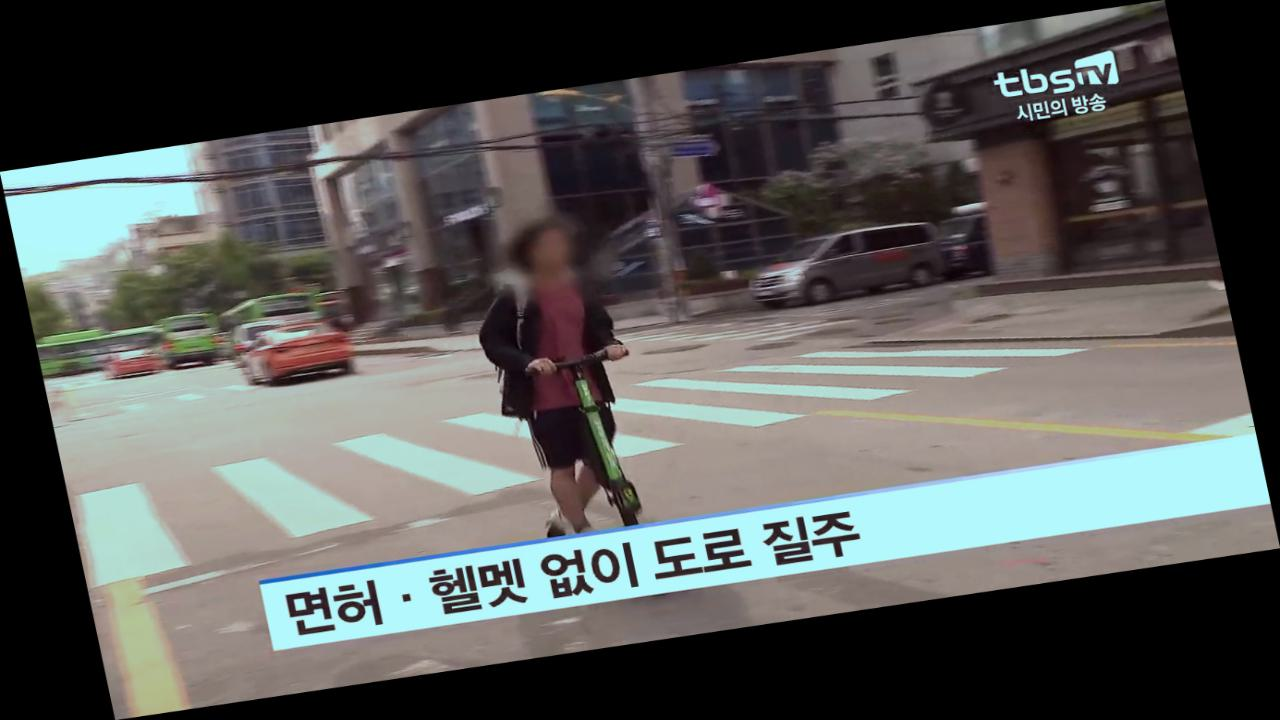nonhelmet: (456, 207, 669, 541)
